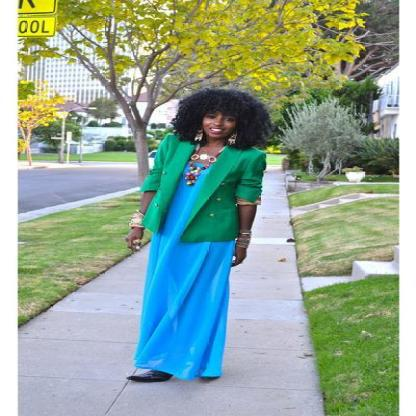dress: (134, 158, 236, 379)
jacket: (140, 134, 270, 242)
shoe: (138, 370, 219, 384)
